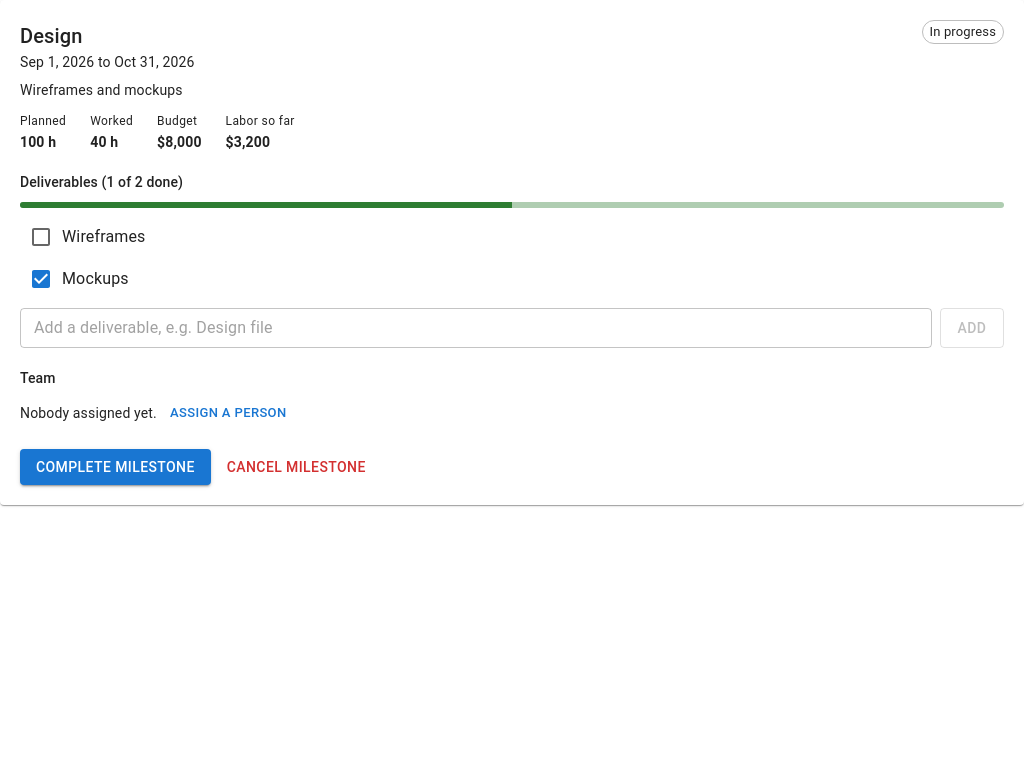
Test: MilestoneCard: start, assign, complete, cancel › assign a person › lists employees, needs one chosen, posts the assignment and refreshes the team
The width and height of the screenshot is (1024, 768).
Click the button "Assign a person".
click(228, 413)  # box [165, 398, 292, 429]
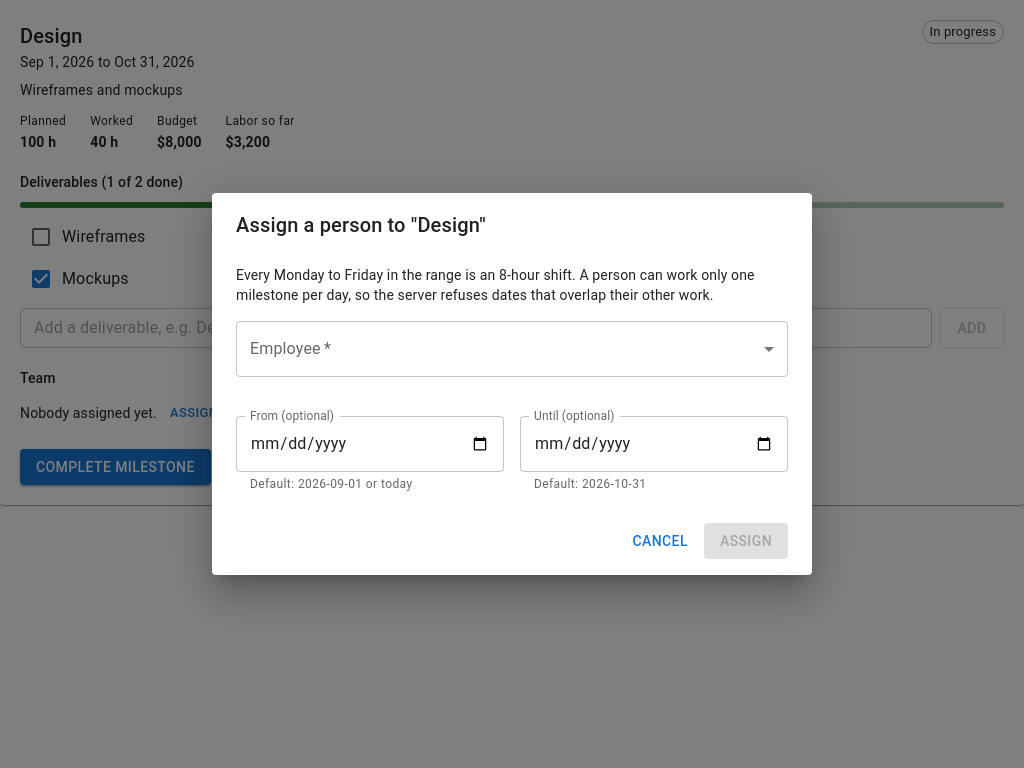
Result: the button "Assign" is disabled at [704, 523, 788, 559]
Result: the dialog "Assign a person to \"Design\"" shows "Default: 2026-09-01 or today" at [250, 477, 412, 491]
Result: the dialog "Assign a person to \"Design\"" shows "Default: 2026-10-31" at [534, 477, 646, 491]
Click the dropdown named "Employee".
click(512, 349)  # box [236, 321, 788, 377]
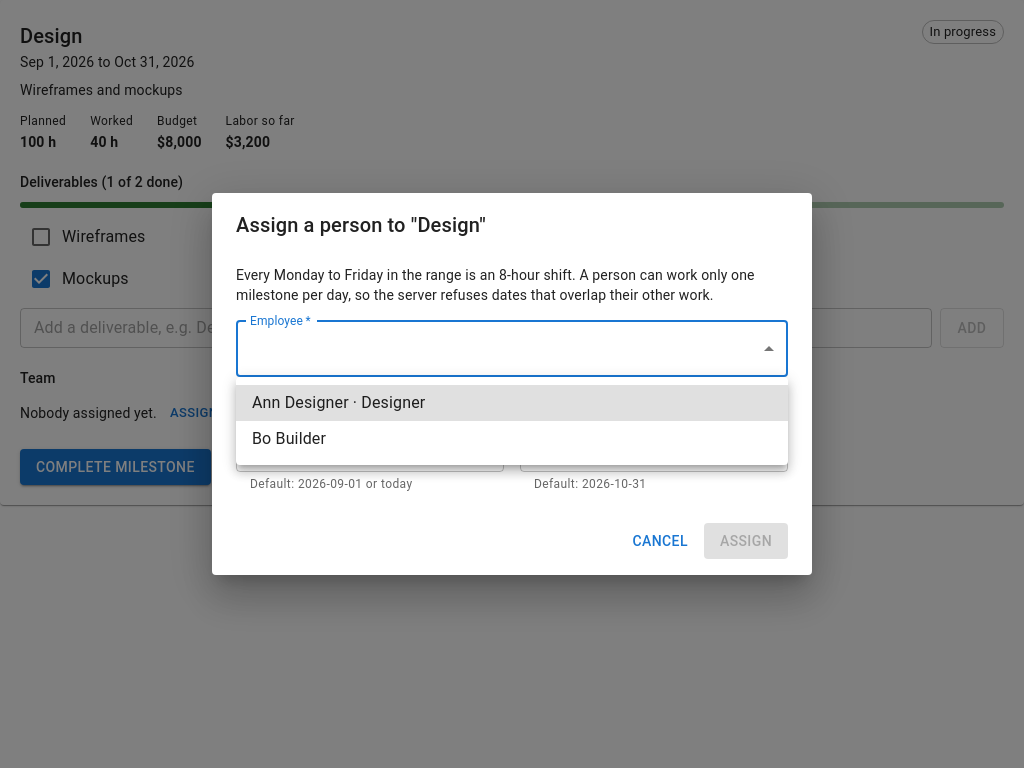
Result: the options read "Ann Designer · Designer", "Bo Builder", in this order
Click the option "Ann Designer · Designer".
click(300, 402)  # box [236, 385, 788, 421]
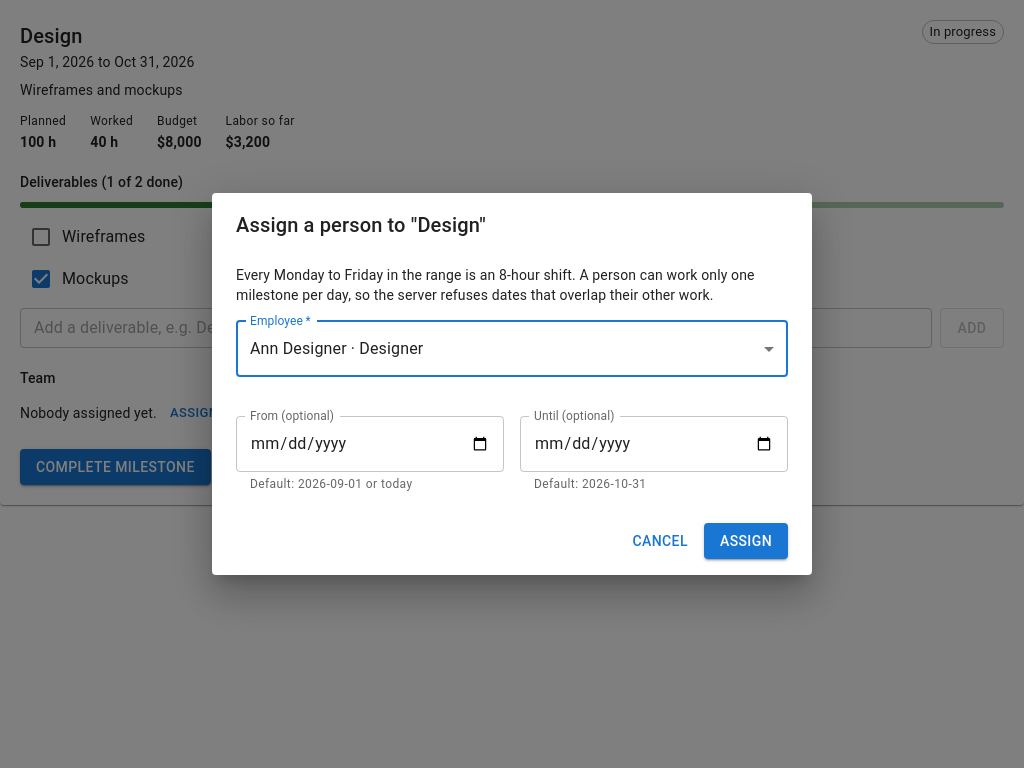
Result: the button "Assign" is enabled
Click the button "Assign".
click(746, 541)  # box [704, 523, 788, 559]
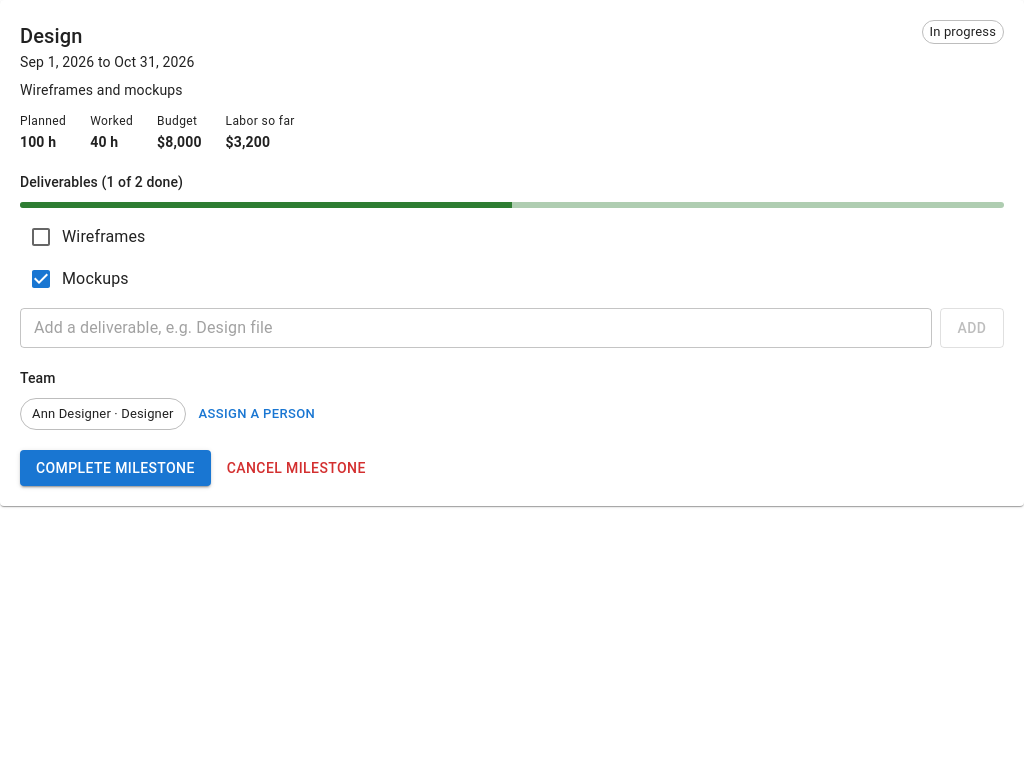
Result: the text "Ann Designer · Designer" is shown at [21, 404, 184, 424]
Result: the dialog is gone
